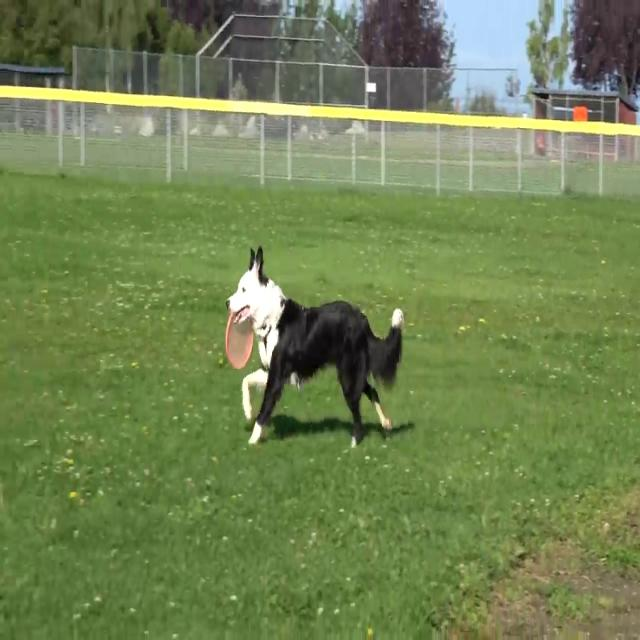Dog: (225, 245, 405, 448)
